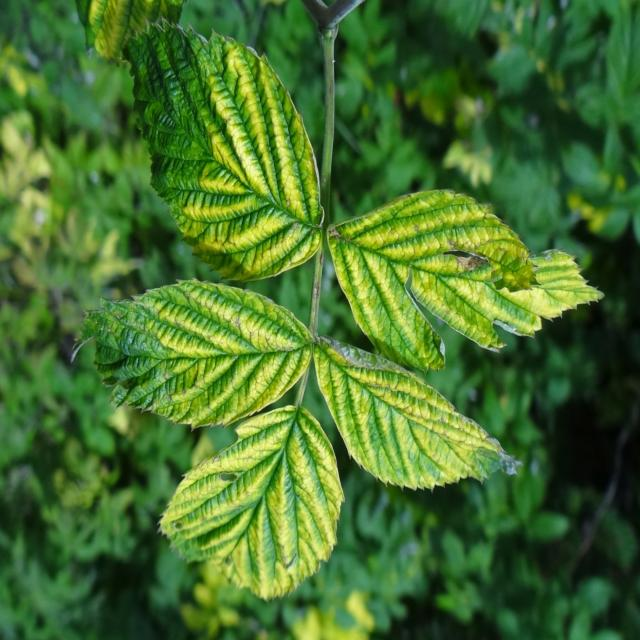Chlorosis: (102, 30, 591, 610)
